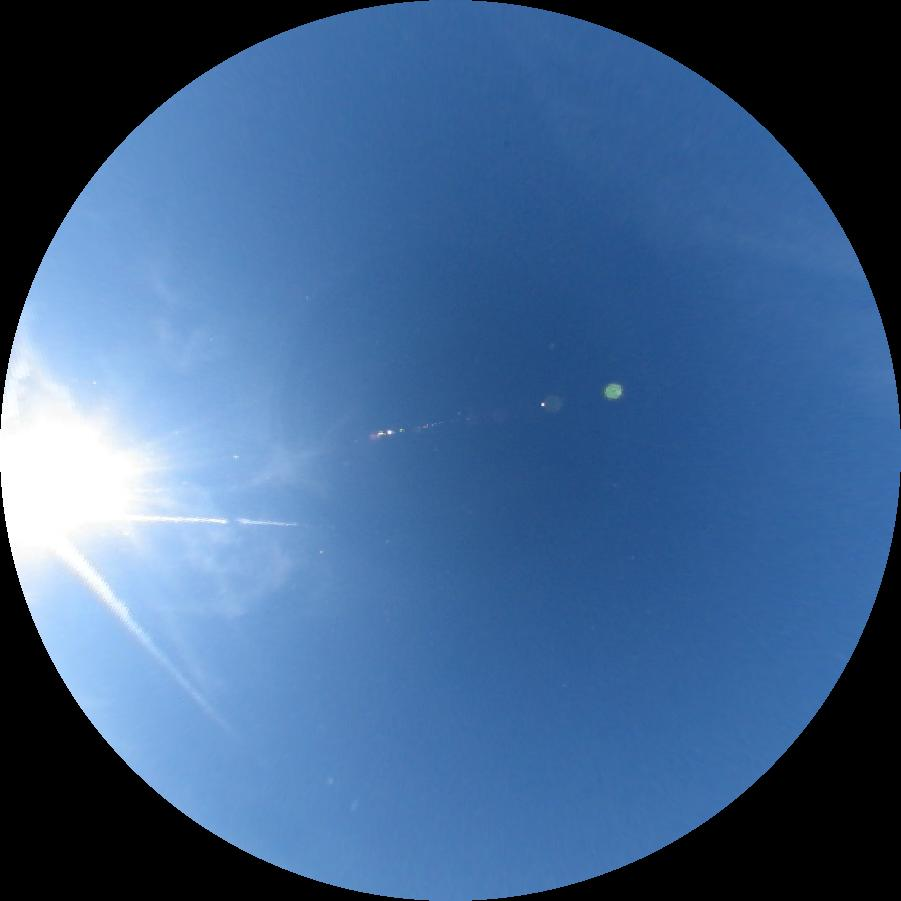contrail veryold: (44, 531, 230, 733)
parasite: (87, 515, 299, 528)
sun: (0, 387, 122, 538)
